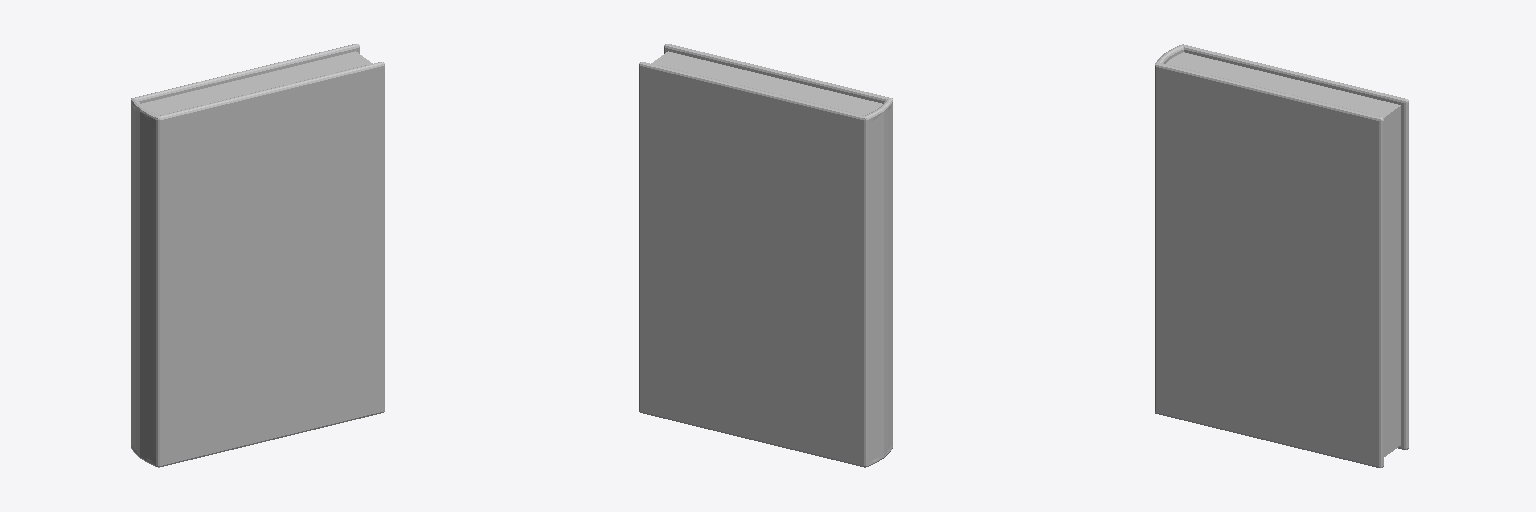
File: beowulf.obj
The picture shows the model from 3 angles: view 1: azimuth 30°, elevation 25°; view 2: azimuth 150°, elevation 25°; view 3: azimuth 330°, elevation 25°; orthographic projection.
Parts seen in each view (by area): view 1: book.beowulf_Cube.001; view 2: book.beowulf_Cube.001; view 3: book.beowulf_Cube.001.
Part boxes in pixels (left/top/right/bottom): book.beowulf_Cube.001: left=131, top=44, right=384, bottom=467; book.beowulf_Cube.001: left=639, top=44, right=892, bottom=467; book.beowulf_Cube.001: left=1155, top=44, right=1408, bottom=467.
Bounding box in the file's own units: 1.23 × 1.77 × 0.26.